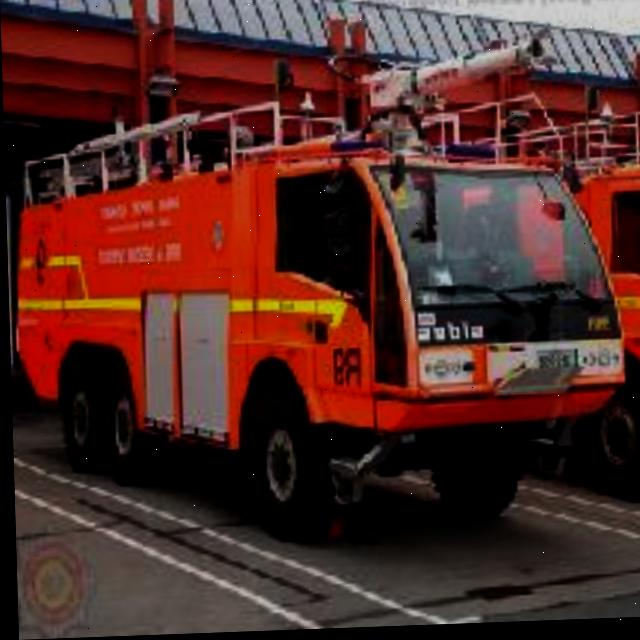emergency: (6, 108, 611, 541), (442, 158, 640, 489)
